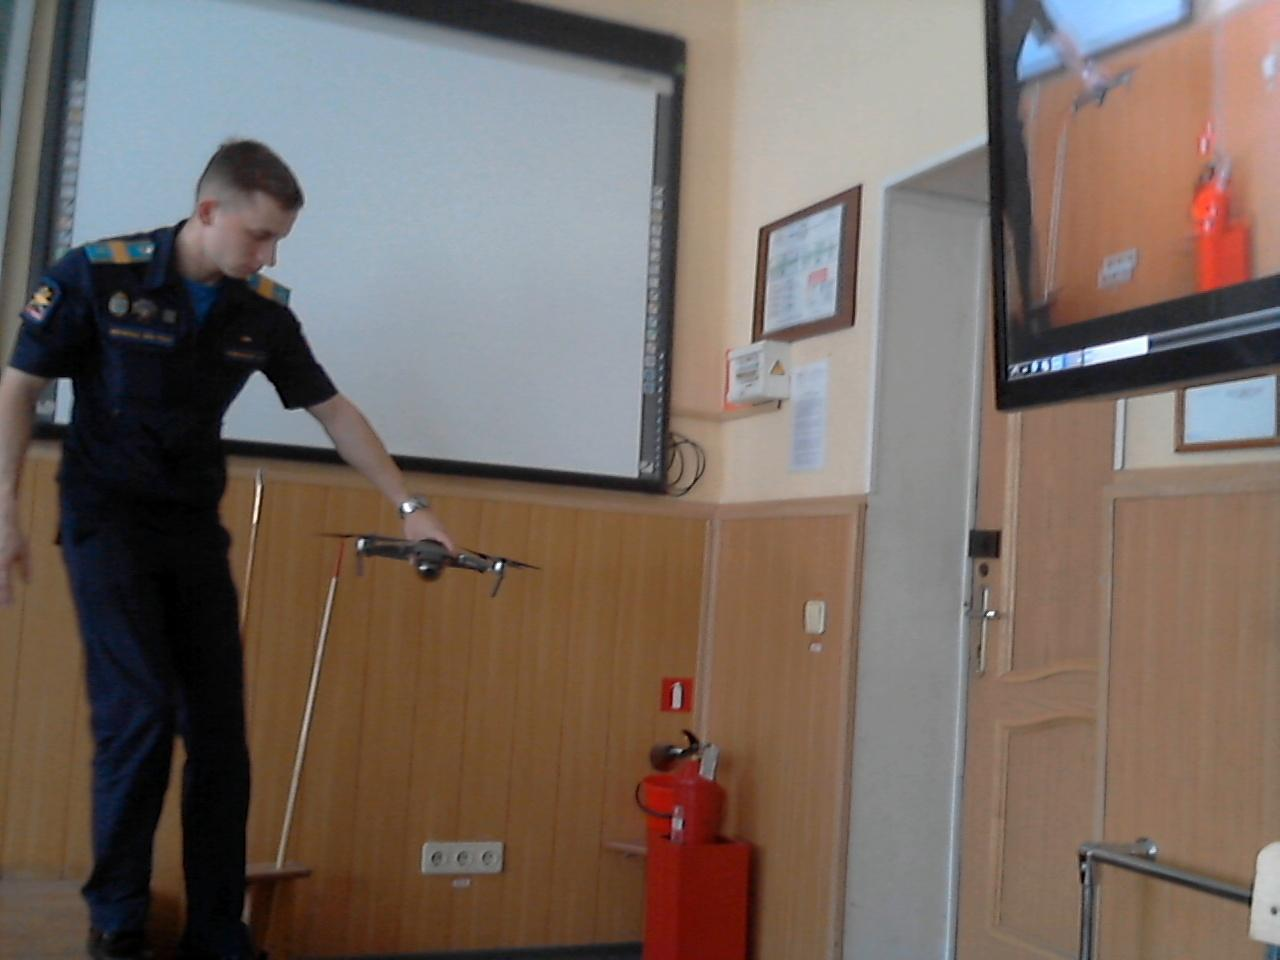drone: (322, 500, 539, 601)
